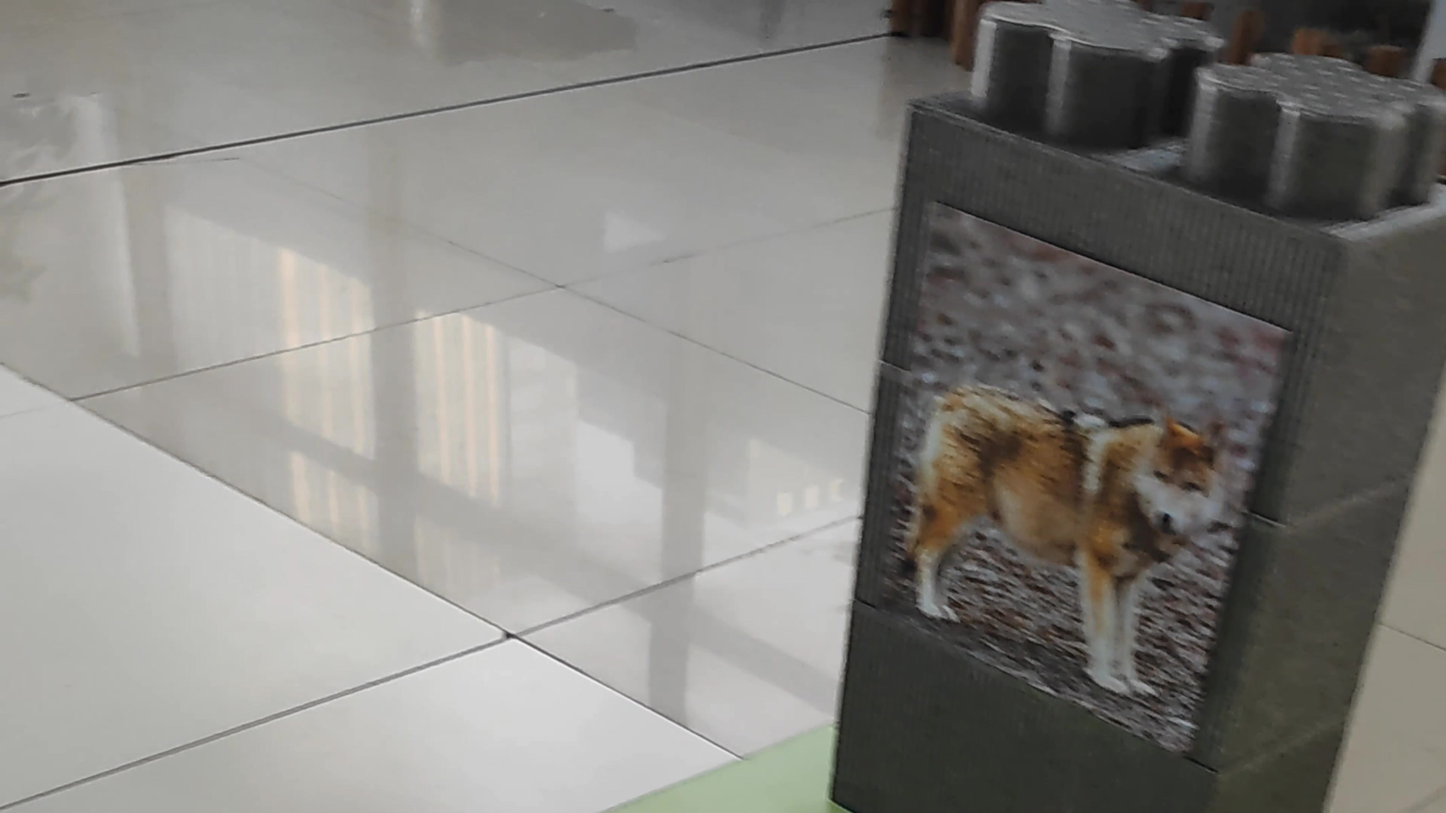wolf: (890, 345, 1234, 678)
